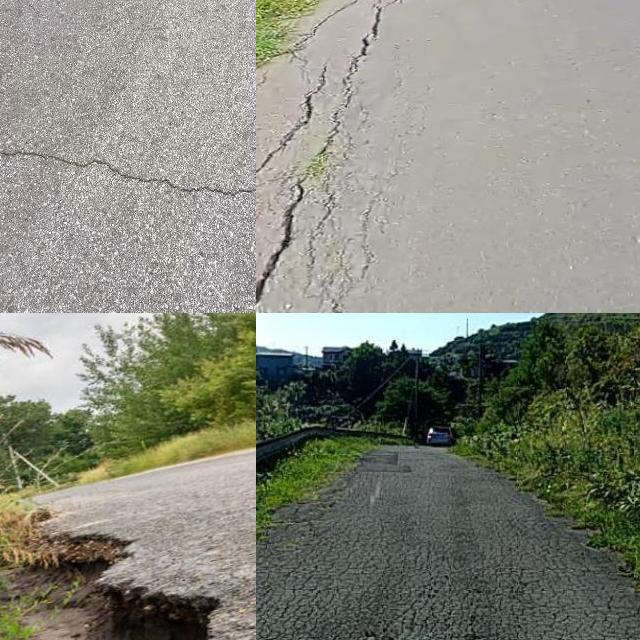Melintang: (0, 132, 256, 216)
Memanjang: (256, 0, 401, 313)
Pinggir: (0, 499, 256, 640)
Retak Buaya: (256, 511, 640, 640)
